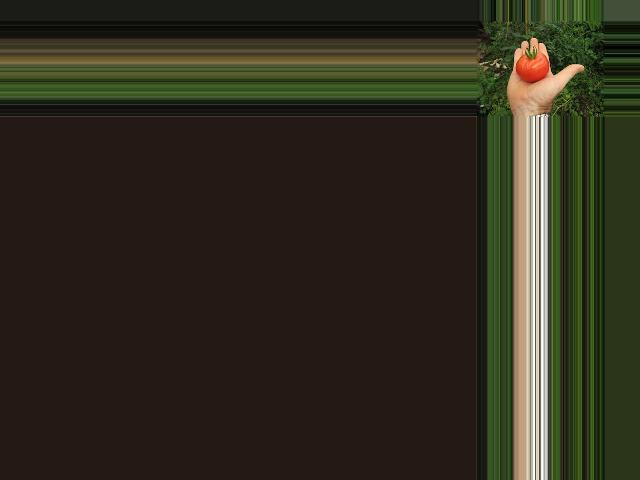tomato: (514, 52, 549, 82)
